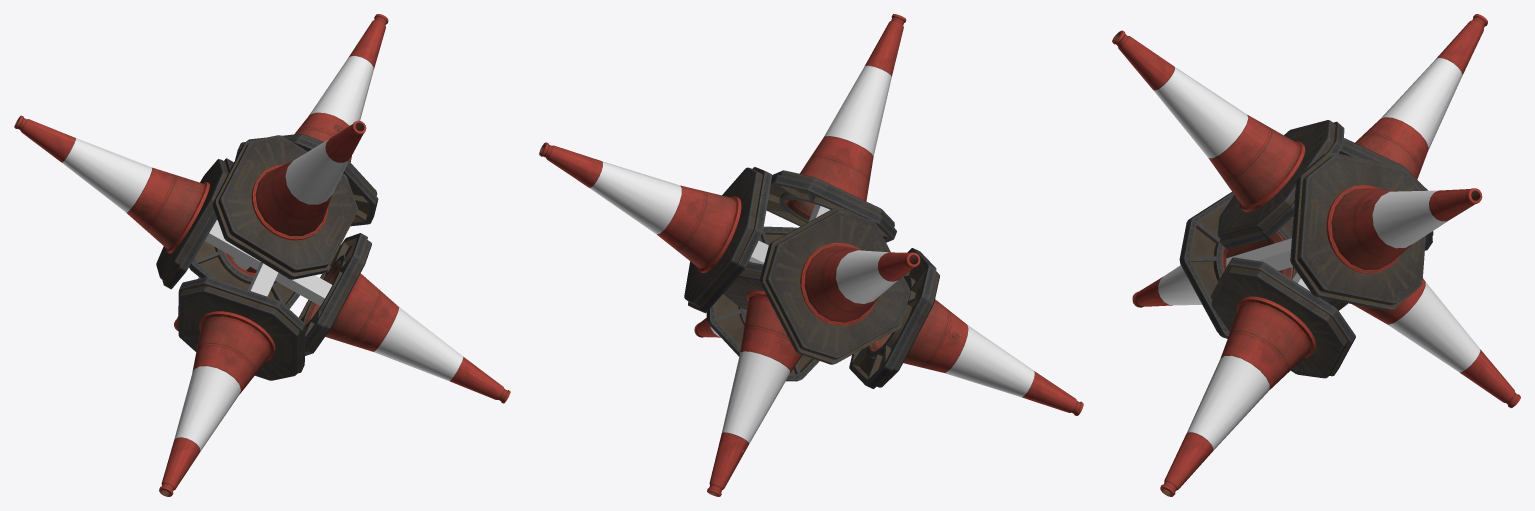
The model's file is traffic_cone_tank_trap.fbx.
The picture shows the model from 3 angles, left to right: view 1: azimuth 30°, elevation 25°; view 2: azimuth 150°, elevation 25°; view 3: azimuth 270°, elevation 25°; orthographic projection. The views are drawn at different scales.
Visible parts, largest first — view 1: traffic_cone_tank_trap; view 2: traffic_cone_tank_trap; view 3: traffic_cone_tank_trap.
Boxes of the visible parts, x1,y1,x2,y2 form: traffic_cone_tank_trap: (14,14,510,496); traffic_cone_tank_trap: (539,14,1083,496); traffic_cone_tank_trap: (1112,14,1520,496).
Size of the model in its own units: 97.19 by 83.57 by 82.44.
